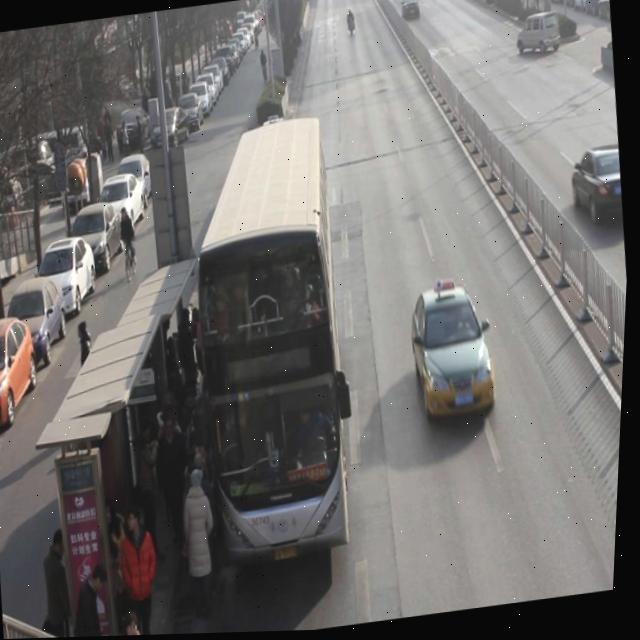car: (406, 278, 507, 434), (569, 149, 628, 236), (398, 0, 421, 26)
truck: (512, 12, 564, 64)
van: (172, 111, 369, 566)
